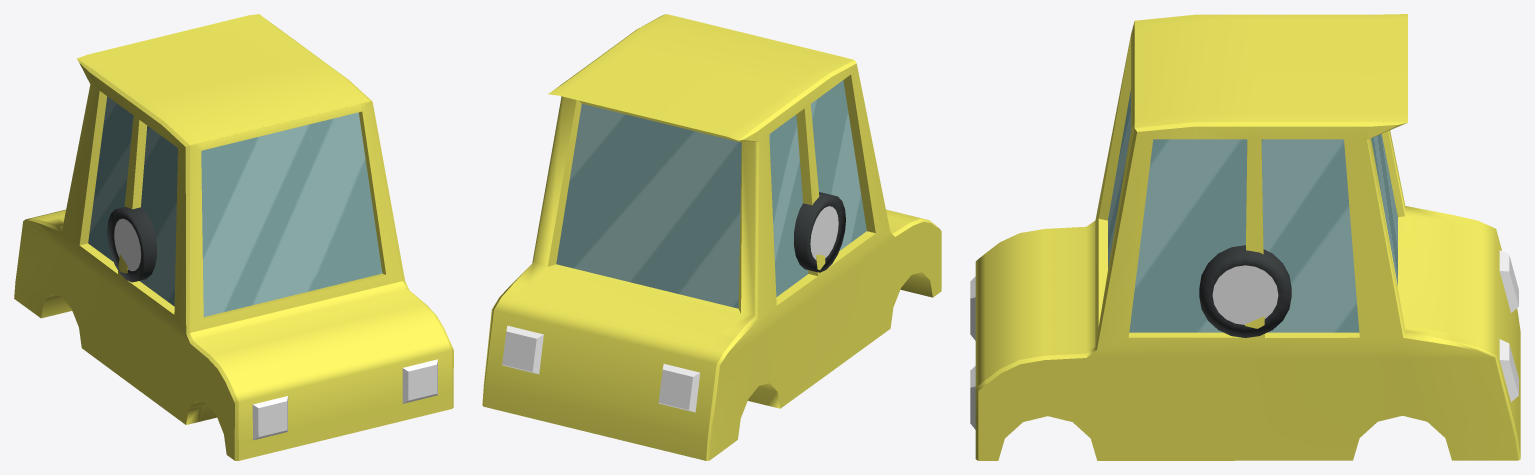
The model's file is car_5_Y.fbx.
3 renders of one model, left to right at view 1: azimuth 30°, elevation 25°; view 2: azimuth 150°, elevation 25°; view 3: azimuth 270°, elevation 25°, orthographic. The views are drawn at different scales.
Visible parts, largest first — view 1: car_5_chasis_Y, car_5_back_wheel_Y, car_5_right_wheel_Y; view 2: car_5_chasis_Y, car_5_back_wheel_Y, car_5_right_wheel_Y; view 3: car_5_chasis_Y, car_5_left_wheel_Y.
Boxes of the visible parts, x1,y1,x2,y2 form: car_5_chasis_Y: [14, 14, 453, 460]; car_5_back_wheel_Y: [107, 207, 150, 282]; car_5_right_wheel_Y: [122, 209, 156, 280]; car_5_chasis_Y: [482, 14, 941, 460]; car_5_back_wheel_Y: [794, 195, 845, 272]; car_5_right_wheel_Y: [794, 192, 833, 268]; car_5_chasis_Y: [970, 14, 1520, 460]; car_5_left_wheel_Y: [1199, 245, 1291, 337].
Bounding box in the file's own units: 103 × 121 × 183.
